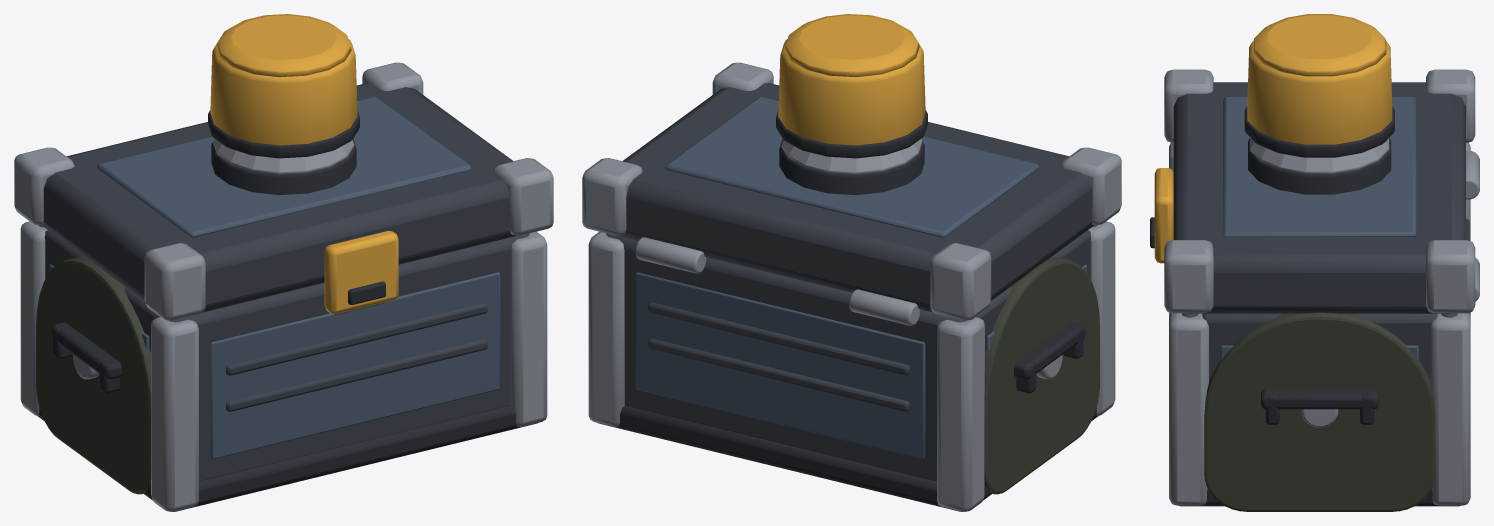
The model's file is loot_upload.glb.
The picture shows the model from 3 angles, left to right: view 1: azimuth 30°, elevation 25°; view 2: azimuth 150°, elevation 25°; view 3: azimuth 270°, elevation 25°; orthographic projection.
Visible parts, largest first — view 1: crate_Lid-shell__p3d424c, crate_panel__p4c5a6e, crate_guard__p8c929c, bag_end__p41453a, crate_body__p3d424c, crate_Lid-top__p4c5a6e, crate_Lid-guard__p8c929c, spray_Cap-body__pd9a23c, crate_skid__p2b2e35, spray_Cap-top__pd9a23c, crate_rib__p3d424c, crate_Lid-latch__pd9a23c (+5 smaller); view 2: crate_Lid-shell__p3d424c, crate_panel__p4c5a6e, crate_guard__p8c929c, bag_end__p41453a, crate_body__p3d424c, crate_Lid-top__p4c5a6e, crate_Lid-guard__p8c929c, spray_Cap-body__pd9a23c, crate_skid__p2b2e35, spray_Cap-top__pd9a23c, crate_rib__p3d424c, crate_hinge__p8c929c (+4 smaller); view 3: bag_end__p41453a, crate_Lid-shell__p3d424c, crate_guard__p8c929c, crate_Lid-top__p4c5a6e, crate_Lid-guard__p8c929c, spray_Cap-body__pd9a23c, spray_Cap-top__pd9a23c, crate_body__p3d424c, spray_body__p2b2e35, crate_handle__p2b2e35, spray_shoulder__p8c929c, spray_Cap-rib__p2b2e35 (+4 smaller).
Part boxes in pixels (x1=…): crate_Lid-shell__p3d424c: x1=41, y1=83, x2=516, y2=312; crate_panel__p4c5a6e: x1=49, y1=264, x2=500, y2=459; crate_guard__p8c929c: x1=20, y1=221, x2=547, y2=511; bag_end__p41453a: x1=36, y1=257, x2=151, y2=494; crate_body__p3d424c: x1=38, y1=225, x2=529, y2=481; crate_Lid-top__p4c5a6e: x1=96, y1=97, x2=471, y2=237; crate_Lid-guard__p8c929c: x1=14, y1=62, x2=553, y2=320; spray_Cap-body__pd9a23c: x1=210, y1=39, x2=357, y2=145; crate_skid__p2b2e35: x1=37, y1=405, x2=537, y2=511; spray_Cap-top__pd9a23c: x1=216, y1=14, x2=351, y2=77; crate_rib__p3d424c: x1=226, y1=302, x2=487, y2=411; crate_Lid-latch__pd9a23c: x1=324, y1=231, x2=398, y2=313; crate_Lid-shell__p3d424c: x1=619, y1=83, x2=1094, y2=312; crate_panel__p4c5a6e: x1=635, y1=264, x2=1086, y2=459; crate_guard__p8c929c: x1=588, y1=221, x2=1115, y2=511; bag_end__p41453a: x1=984, y1=257, x2=1099, y2=494; crate_body__p3d424c: x1=606, y1=225, x2=1097, y2=481; crate_Lid-top__p4c5a6e: x1=664, y1=97, x2=1039, y2=237; crate_Lid-guard__p8c929c: x1=582, y1=62, x2=1121, y2=320; spray_Cap-body__pd9a23c: x1=778, y1=39, x2=925, y2=145; crate_skid__p2b2e35: x1=598, y1=405, x2=1098, y2=511; spray_Cap-top__pd9a23c: x1=784, y1=14, x2=919, y2=77; crate_rib__p3d424c: x1=648, y1=302, x2=909, y2=411; crate_hinge__p8c929c: x1=635, y1=237, x2=920, y2=325; bag_end__p41453a: x1=1204, y1=312, x2=1435, y2=511; crate_Lid-shell__p3d424c: x1=1173, y1=82, x2=1465, y2=313; crate_guard__p8c929c: x1=1169, y1=142, x2=1470, y2=505; crate_Lid-top__p4c5a6e: x1=1223, y1=97, x2=1416, y2=236; crate_Lid-guard__p8c929c: x1=1164, y1=69, x2=1475, y2=313; spray_Cap-body__pd9a23c: x1=1247, y1=41, x2=1392, y2=144; spray_Cap-top__pd9a23c: x1=1253, y1=14, x2=1386, y2=76; crate_body__p3d424c: x1=1182, y1=313, x2=1457, y2=381; spray_body__p2b2e35: x1=1248, y1=138, x2=1391, y2=194; crate_handle__p2b2e35: x1=1261, y1=389, x2=1378, y2=424; spray_shoulder__p8c929c: x1=1250, y1=138, x2=1389, y2=173; spray_Cap-rib__p2b2e35: x1=1244, y1=107, x2=1394, y2=157.
Bounding box in the file's own units: 4.04 × 3.58 × 2.8.
